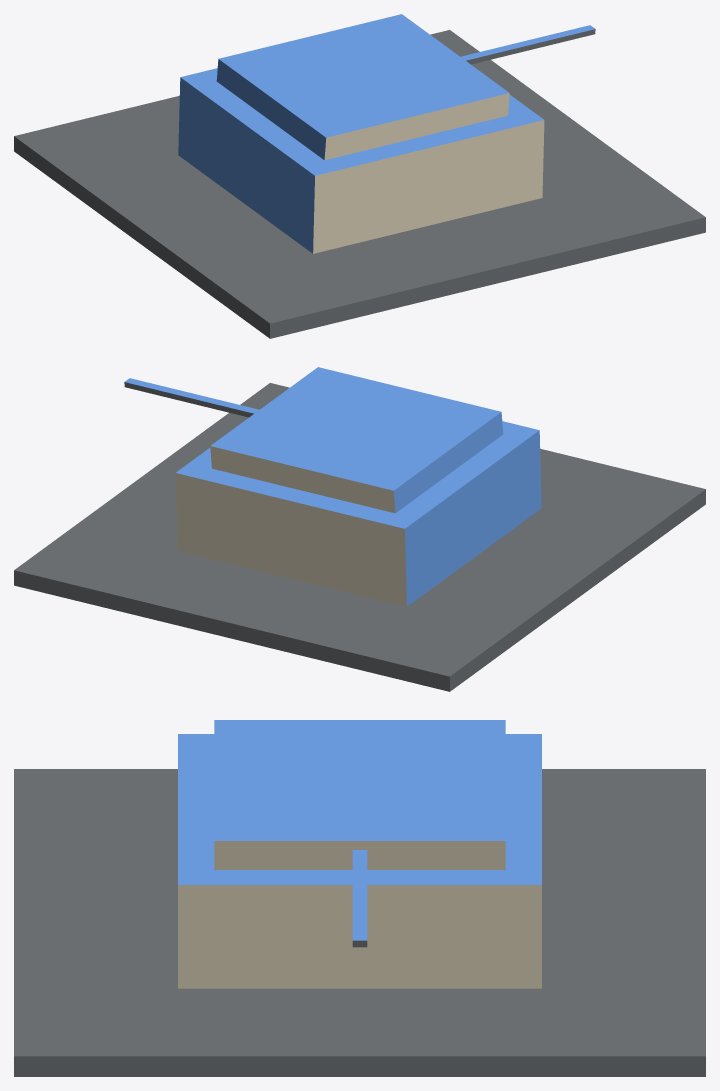
File: meridian_advanced_defences_heavily_damaged.glb
The picture shows the model from 3 angles, top to bottom: view 1: azimuth 30°, elevation 25°; view 2: azimuth 150°, elevation 25°; view 3: azimuth 270°, elevation 25°; orthographic projection. The views are drawn at different scales.
Visible parts, largest first — view 1: hull, turret, barrel; view 2: hull, turret, barrel; view 3: hull, turret, barrel.
Part boxes in pixels (x1=…): hull: x1=14, y1=30, x2=705, y2=338; turret: x1=216, y1=14, x2=509, y2=160; barrel: x1=460, y1=25, x2=595, y2=64; hull: x1=14, y1=383, x2=705, y2=691; turret: x1=210, y1=367, x2=503, y2=513; barrel: x1=124, y1=378, x2=259, y2=417; hull: x1=14, y1=734, x2=705, y2=1076; turret: x1=214, y1=720, x2=505, y2=869; barrel: x1=352, y1=850, x2=367, y2=947.
Bounding box in the file's own units: 7.72 × 1.88 × 7.6.
